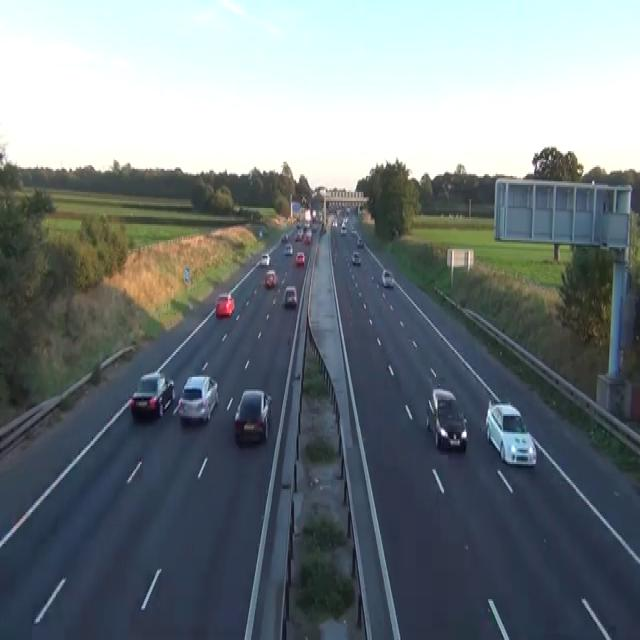Car: (485, 398, 537, 466), (425, 386, 467, 452), (130, 370, 175, 418), (176, 373, 219, 423), (234, 388, 272, 444), (215, 292, 234, 316), (283, 284, 297, 308), (265, 268, 277, 288), (381, 268, 394, 286), (260, 252, 270, 265), (296, 251, 305, 265), (351, 251, 360, 265), (283, 244, 293, 254), (304, 230, 311, 243), (340, 224, 347, 235), (294, 231, 302, 240), (356, 237, 363, 247), (304, 220, 311, 230), (281, 233, 288, 242), (331, 218, 337, 228), (350, 224, 356, 233), (320, 224, 326, 233), (311, 224, 317, 231), (318, 212, 323, 220), (343, 215, 348, 222), (296, 222, 300, 230), (312, 210, 316, 218), (371, 274, 374, 281), (259, 230, 262, 237)
